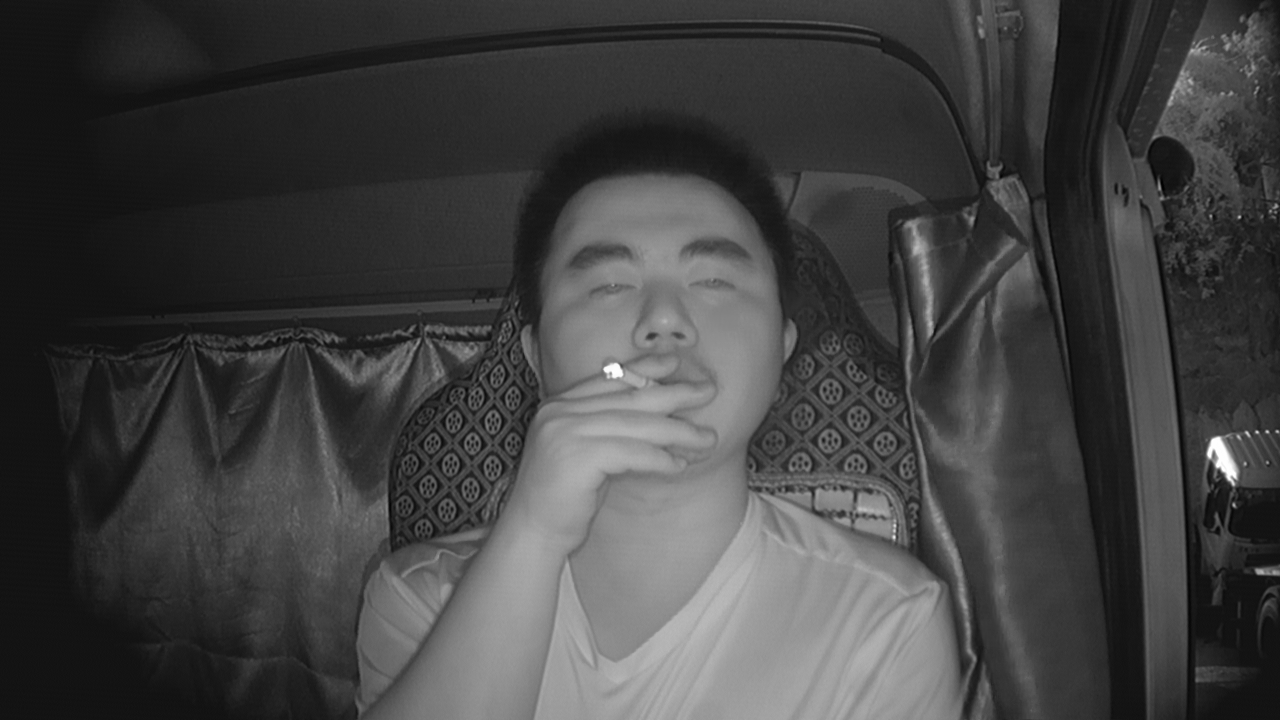hand: (564, 350, 698, 481)
